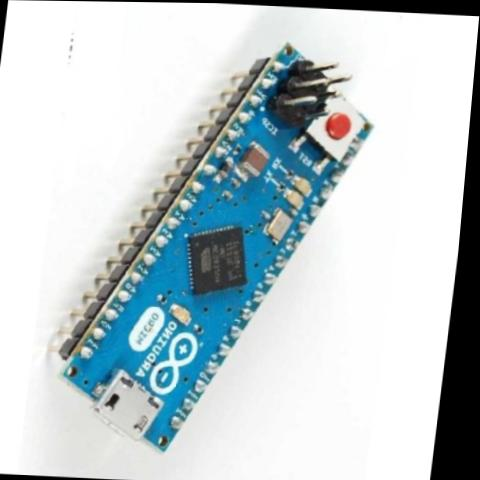Arduino-Micro: (39, 25, 389, 466)
